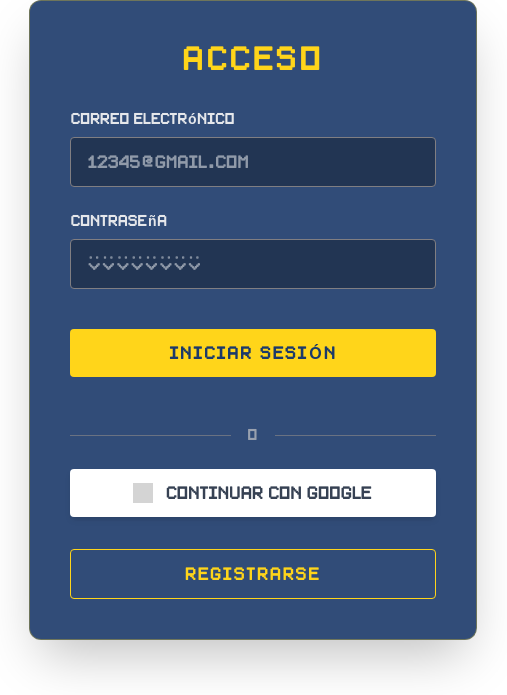
Pruebas del Frontend - Flujo de Seguridad › 1. Debe mostrar el simulador de MFA (Modo Evaluación) al ingresar credenciales correctas
Escribimos en los inputs
Type "profe@correo.com" into the field with placeholder "12345@gmail.com" at (253, 162), box [70,137,436,187]
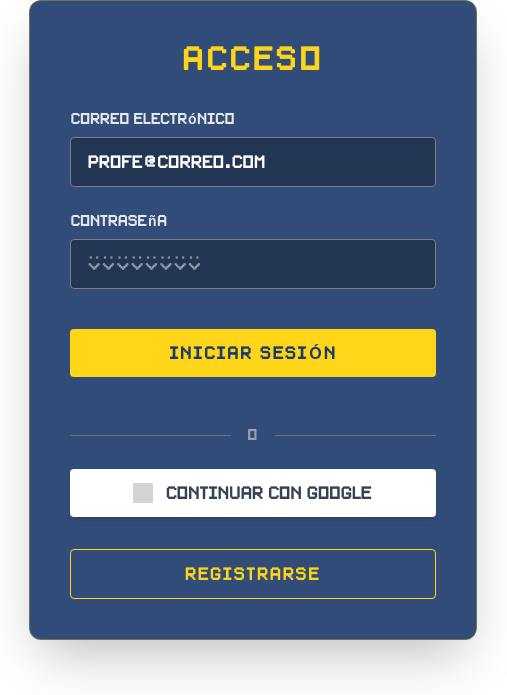
Type "123456" into the password field with placeholder "••••••••" at (253, 264), box [70,239,436,289]
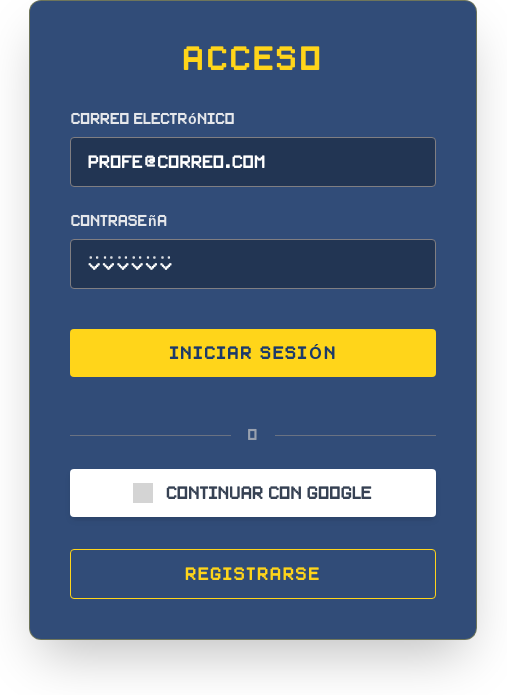
Clic en el botón
Click the button "INICIAR SESIÓN" at (253, 353), box [70,329,436,377]
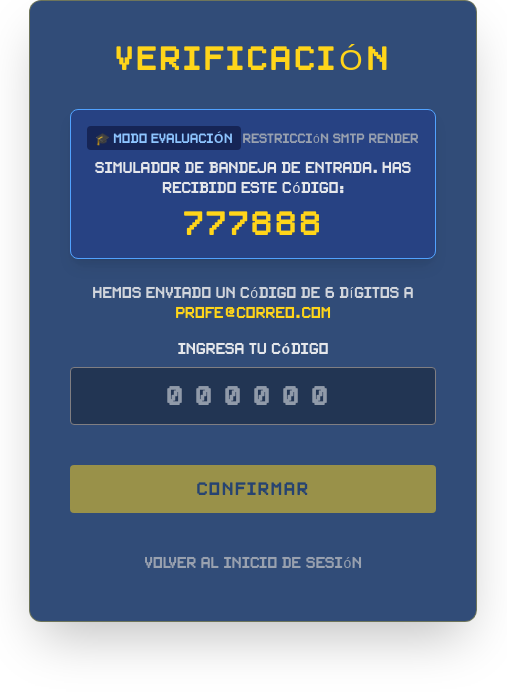
Result: the text "🎓 MODO EVALUACIÓN" is shown at [87,126,241,150]
Result: the text "777888" is shown at [181,206,325,241]
Result: the field with placeholder "000000" is shown at [70,367,436,425]
